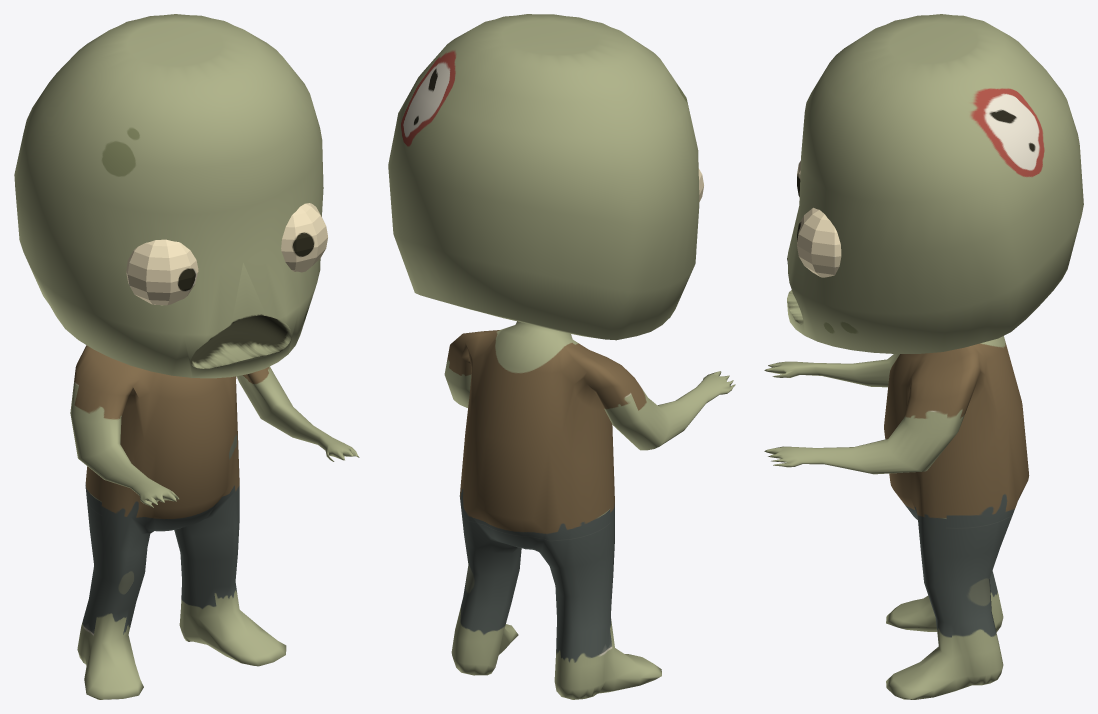
Rendered from Zombie.fbx.
3 views of the same model, side by side, from view 1: azimuth 30°, elevation 25°; view 2: azimuth 150°, elevation 25°; view 3: azimuth 270°, elevation 25° (orthographic). The views are drawn at different scales.
Visible parts, largest first — view 1: polySurface2; view 2: polySurface2; view 3: polySurface2.
Part boxes in pixels (x1,y1,x2,y2): polySurface2: [14, 14, 359, 699]; polySurface2: [388, 14, 735, 699]; polySurface2: [764, 14, 1083, 699].
Bounding box in the file's own units: 1.16 × 2.56 × 1.2.
